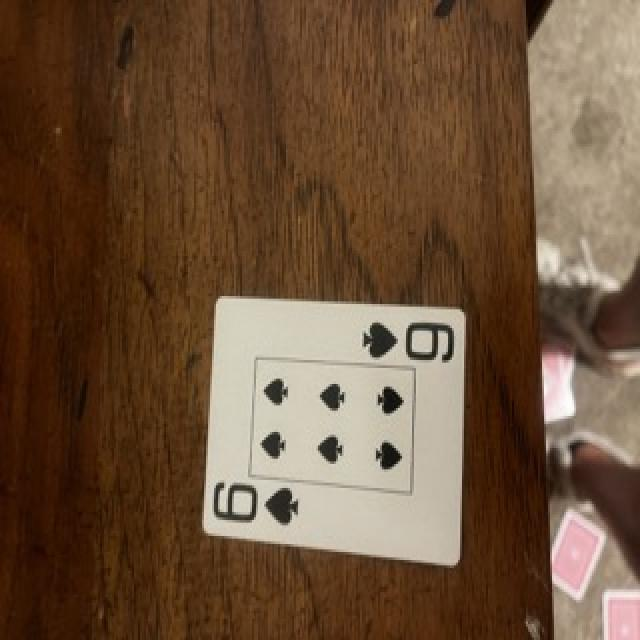6 of spades: (202, 298, 464, 563)
